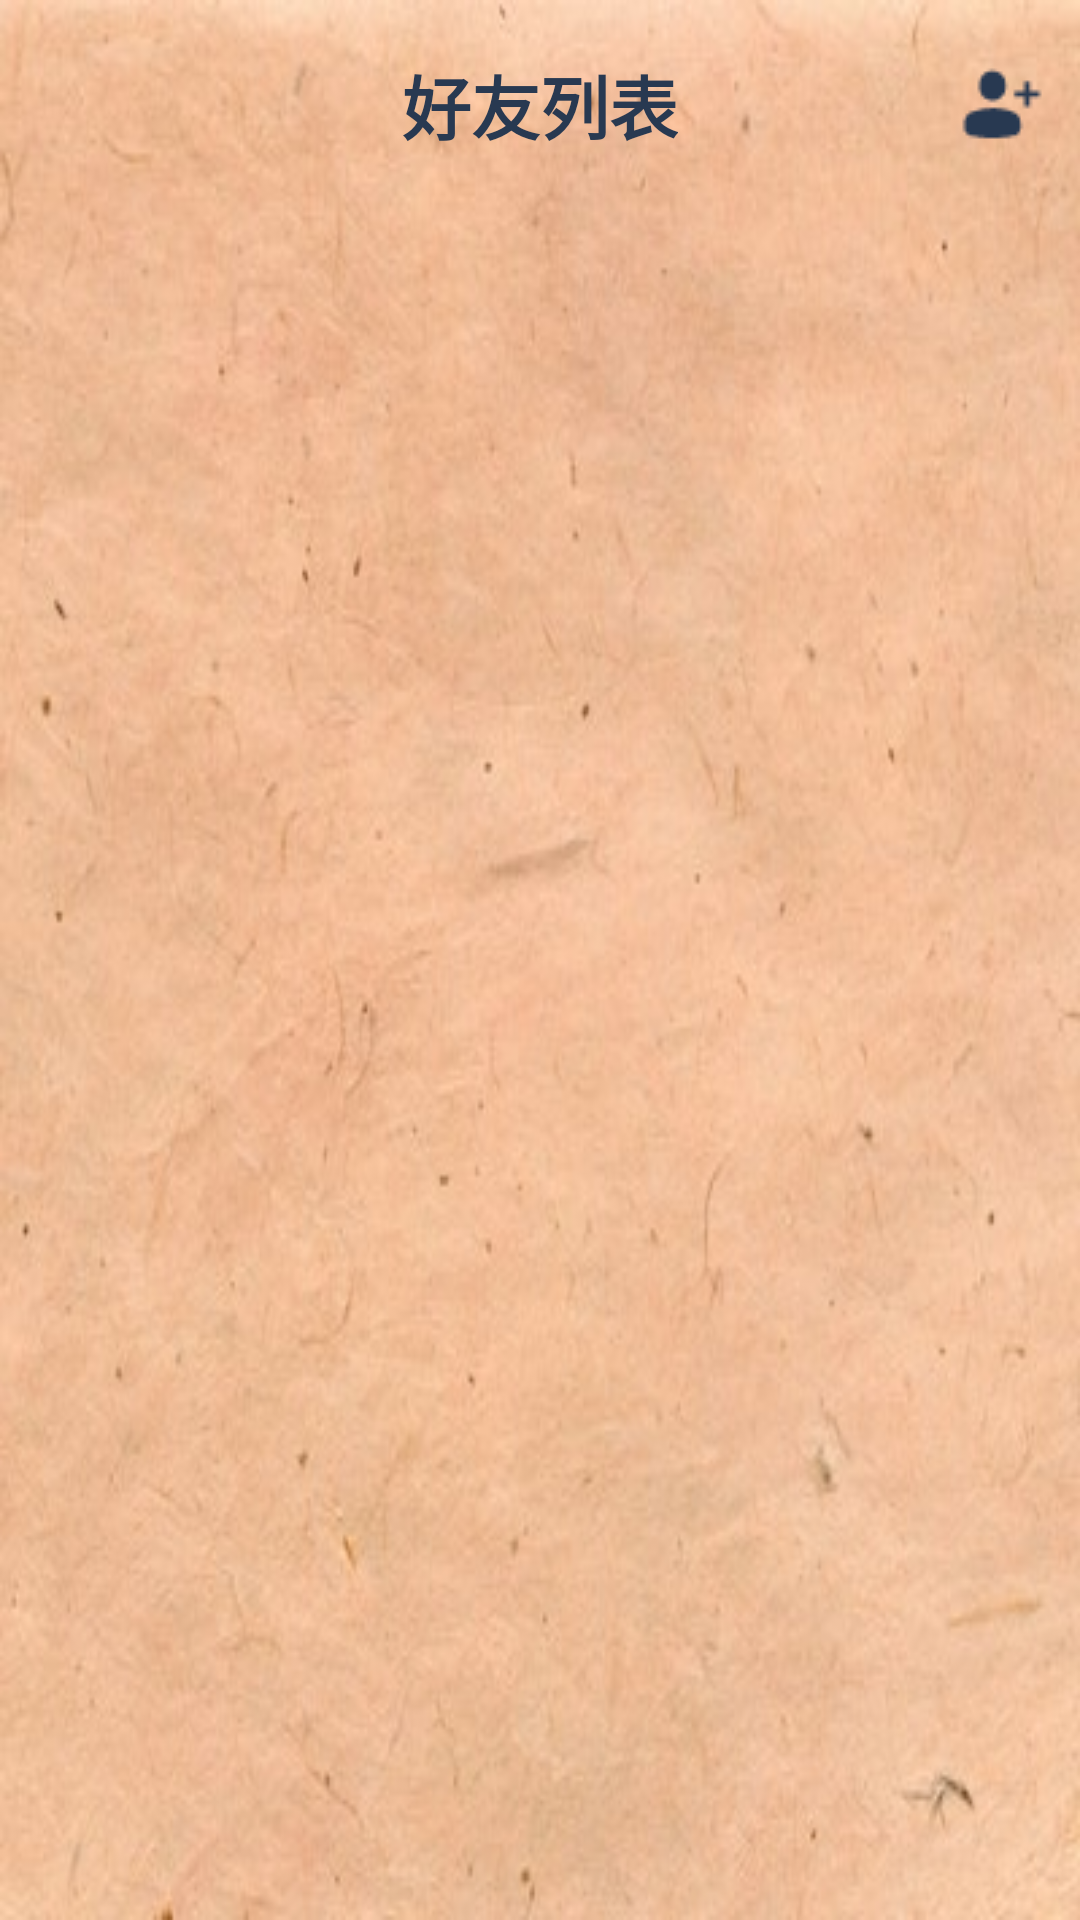

Icons on this 1080w x 1920h Android screen, each with the point to tap as (x=x, y=y):
friend add: (x=1002, y=104)
